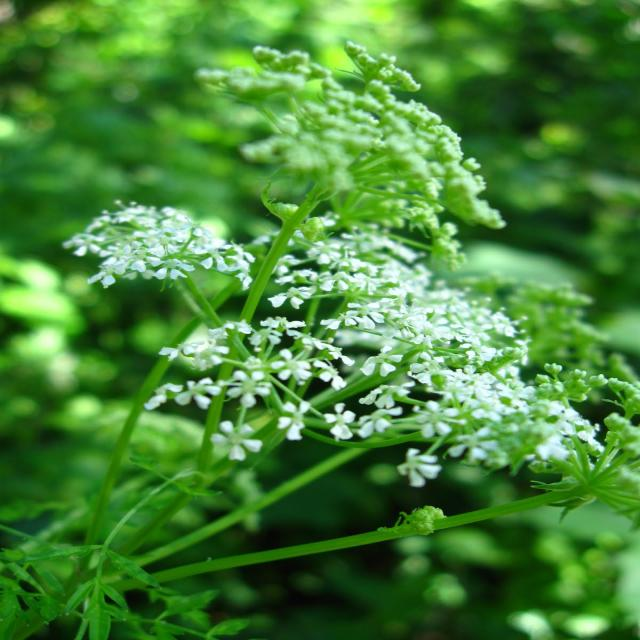Poisonous-Hemlock: (66, 192, 617, 547)
